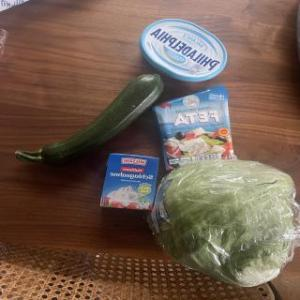zucchini: (16, 75, 172, 165)
